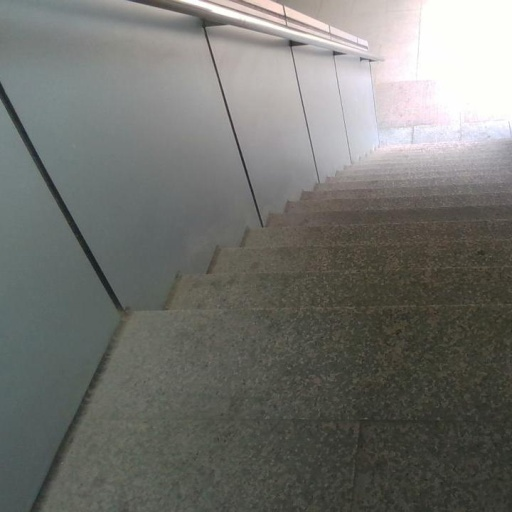Stairs: (34, 140, 512, 512)
